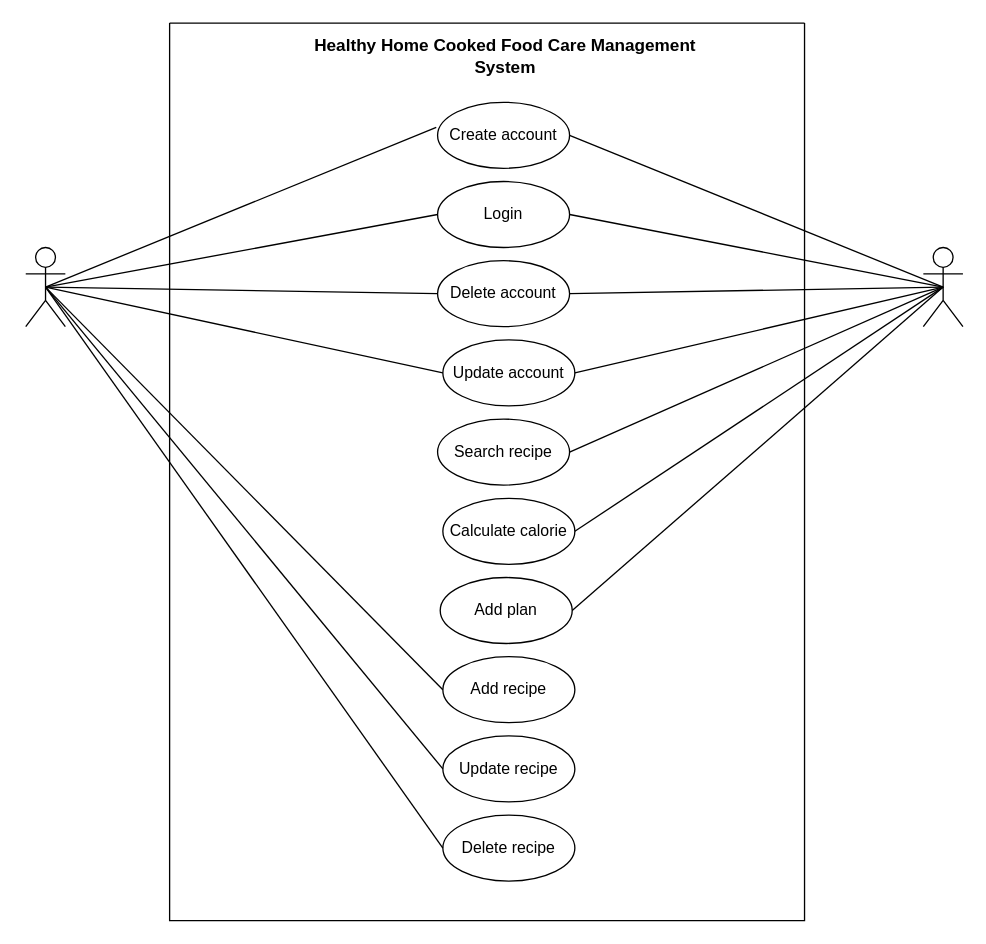
This 986x944 diagram has some shape labels left out. Here are the shapes that lost their labels. From the top down, the centre of each, then its label:
At (x=44, y=286): "Admin".
At (x=942, y=286): "User".
